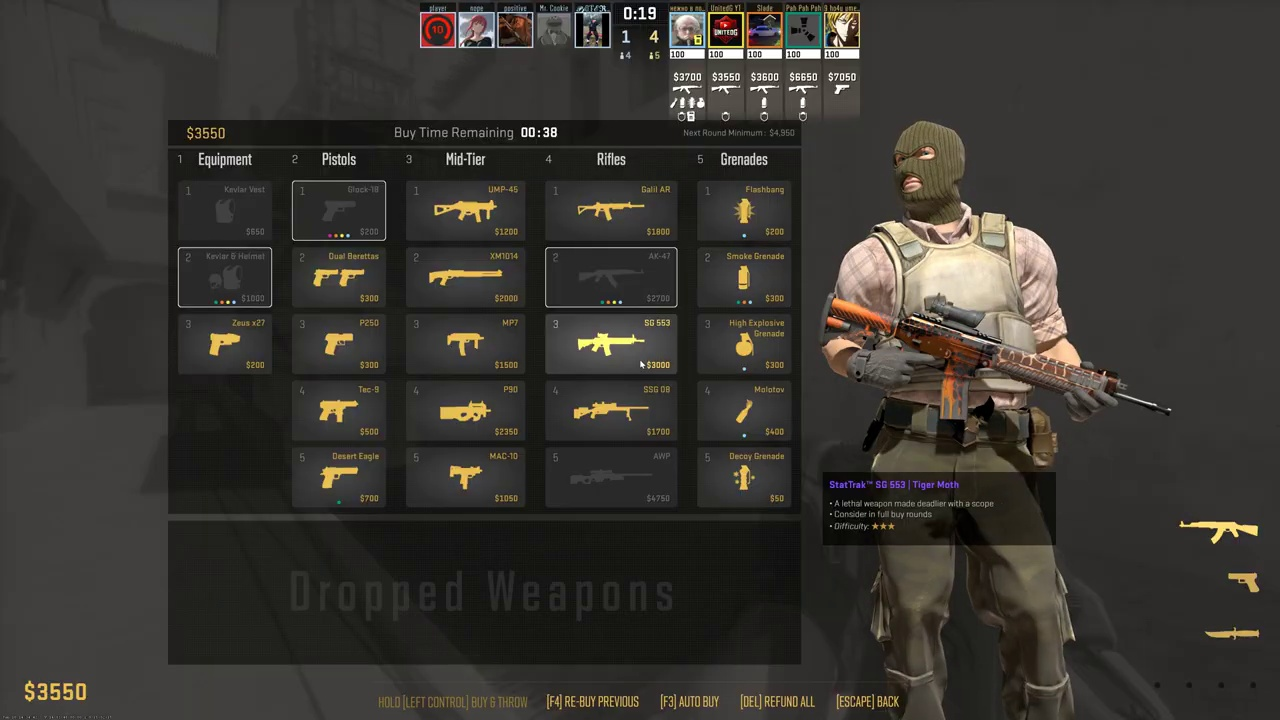Terrorist: (844, 125, 1078, 720)
